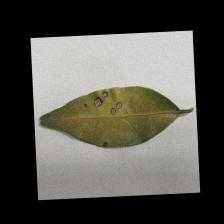canker: (74, 88, 132, 146)
